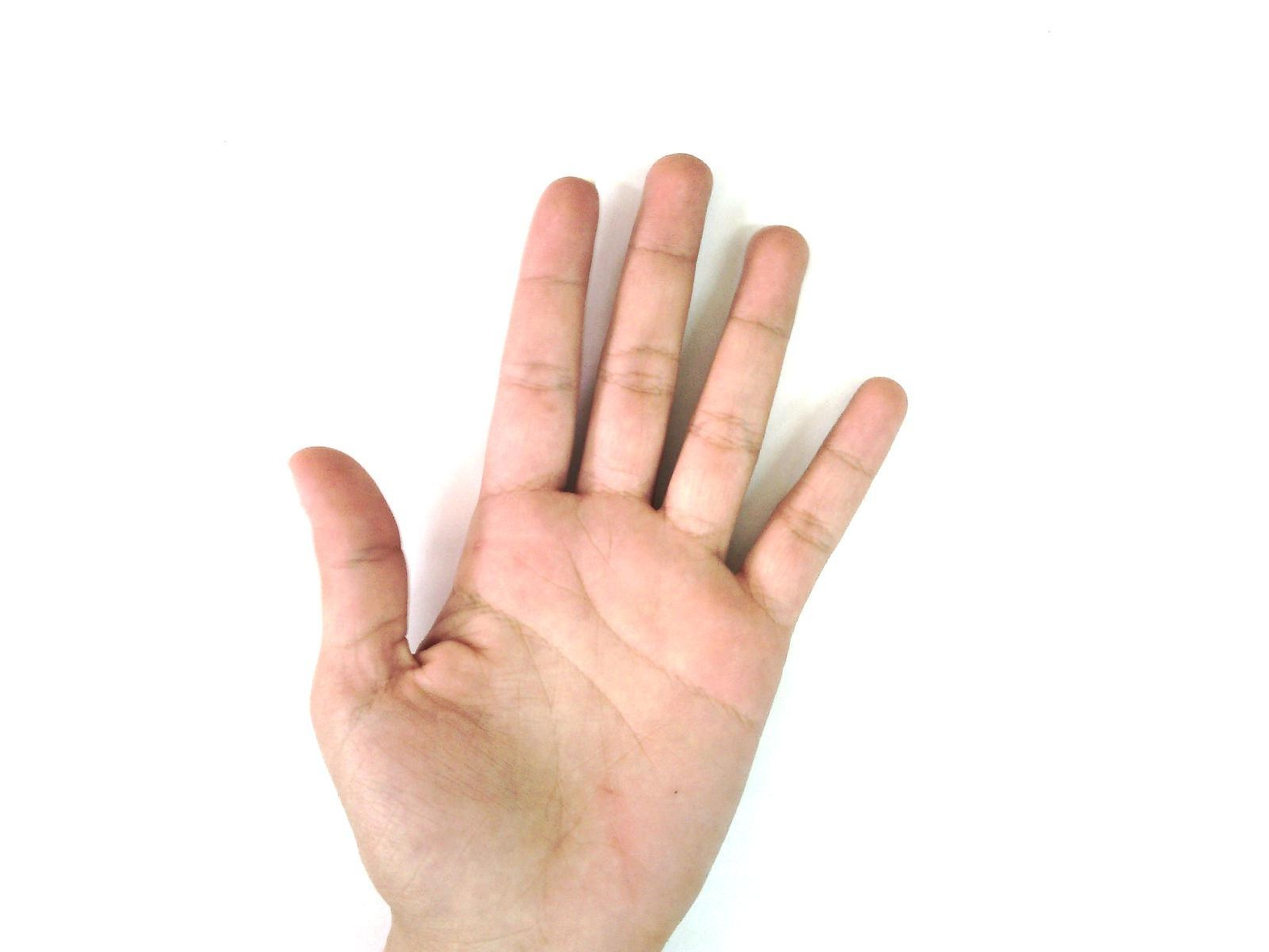open_palm: (286, 152, 911, 951)
